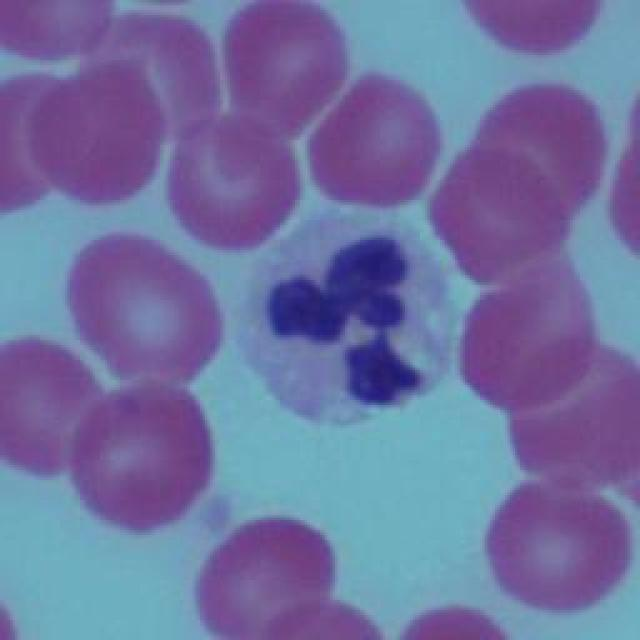RBC: (67, 235, 225, 387), (75, 379, 215, 539), (505, 335, 640, 485), (484, 478, 634, 612), (437, 146, 575, 286), (468, 80, 604, 218), (462, 272, 596, 408), (170, 114, 302, 251), (34, 65, 161, 207), (82, 14, 220, 144), (310, 72, 442, 206), (192, 515, 336, 637), (225, 0, 350, 140), (0, 338, 108, 480), (0, 74, 75, 211), (460, 0, 602, 55), (0, 0, 112, 62), (260, 595, 390, 640), (398, 600, 514, 640), (607, 137, 640, 264)
WBC: (236, 206, 459, 426)
